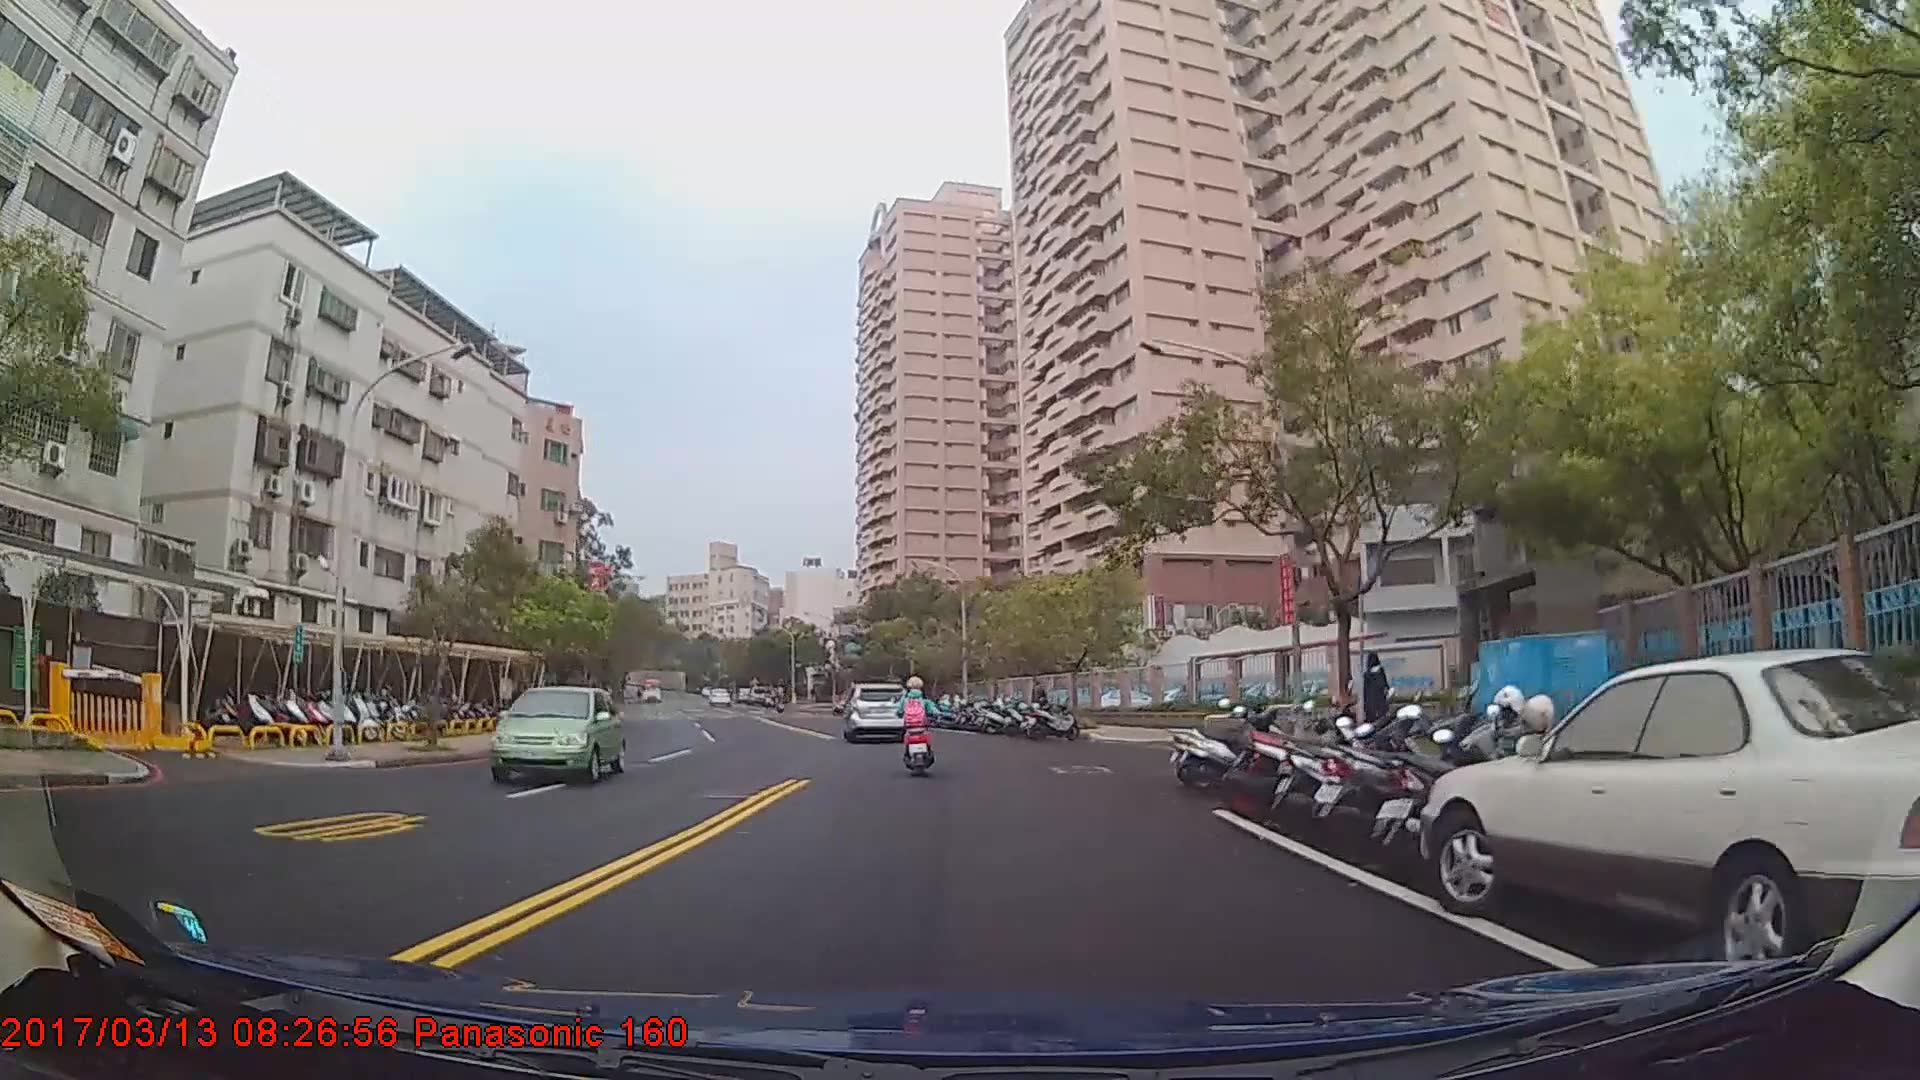pedestrian: (1364, 651, 1394, 758), (1031, 679, 1051, 727)
rider: (899, 675, 939, 781)
vehicle: (1418, 645, 1920, 974), (487, 683, 626, 779), (845, 678, 911, 742), (638, 678, 662, 706)
